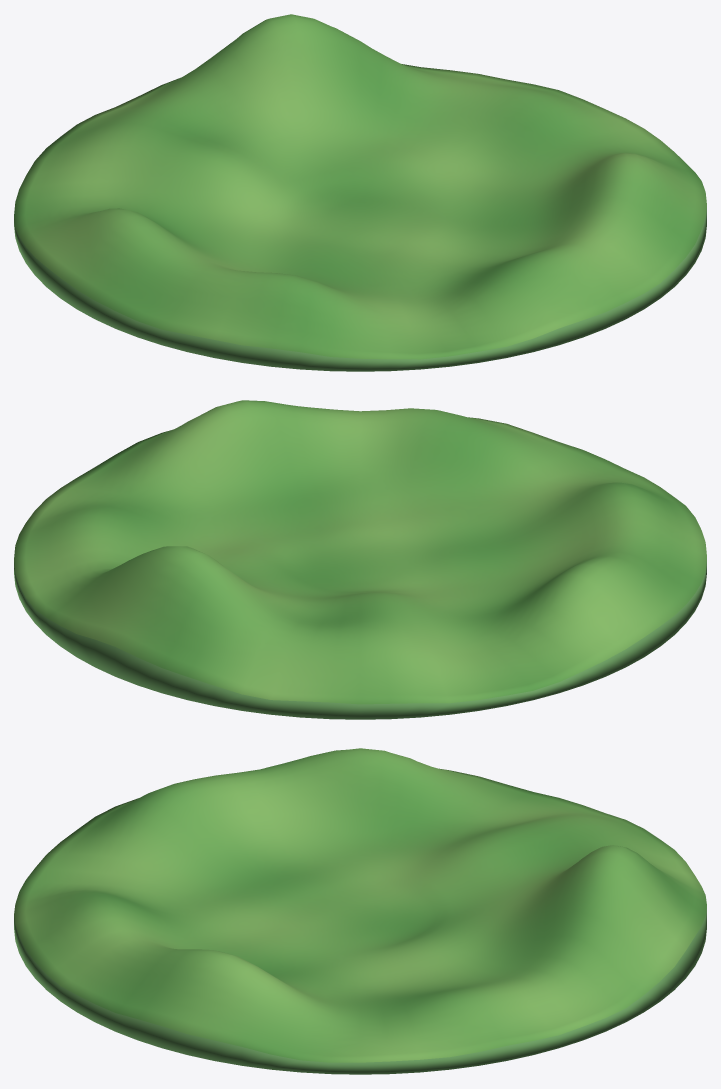
Rendered from W1_Ground.fbx.
3 renders of one model, top to bottom at view 1: azimuth 30°, elevation 25°; view 2: azimuth 150°, elevation 25°; view 3: azimuth 270°, elevation 25°, orthographic.
Visible parts, largest first — view 1: W1_Ground; view 2: W1_Ground; view 3: W1_Ground.
Part boxes in pixels (x1,y1,x2,y2): W1_Ground: [14, 14, 706, 371]; W1_Ground: [14, 400, 706, 719]; W1_Ground: [14, 748, 706, 1074].
Bounding box in the file's own units: 22 × 3.62 × 22.
